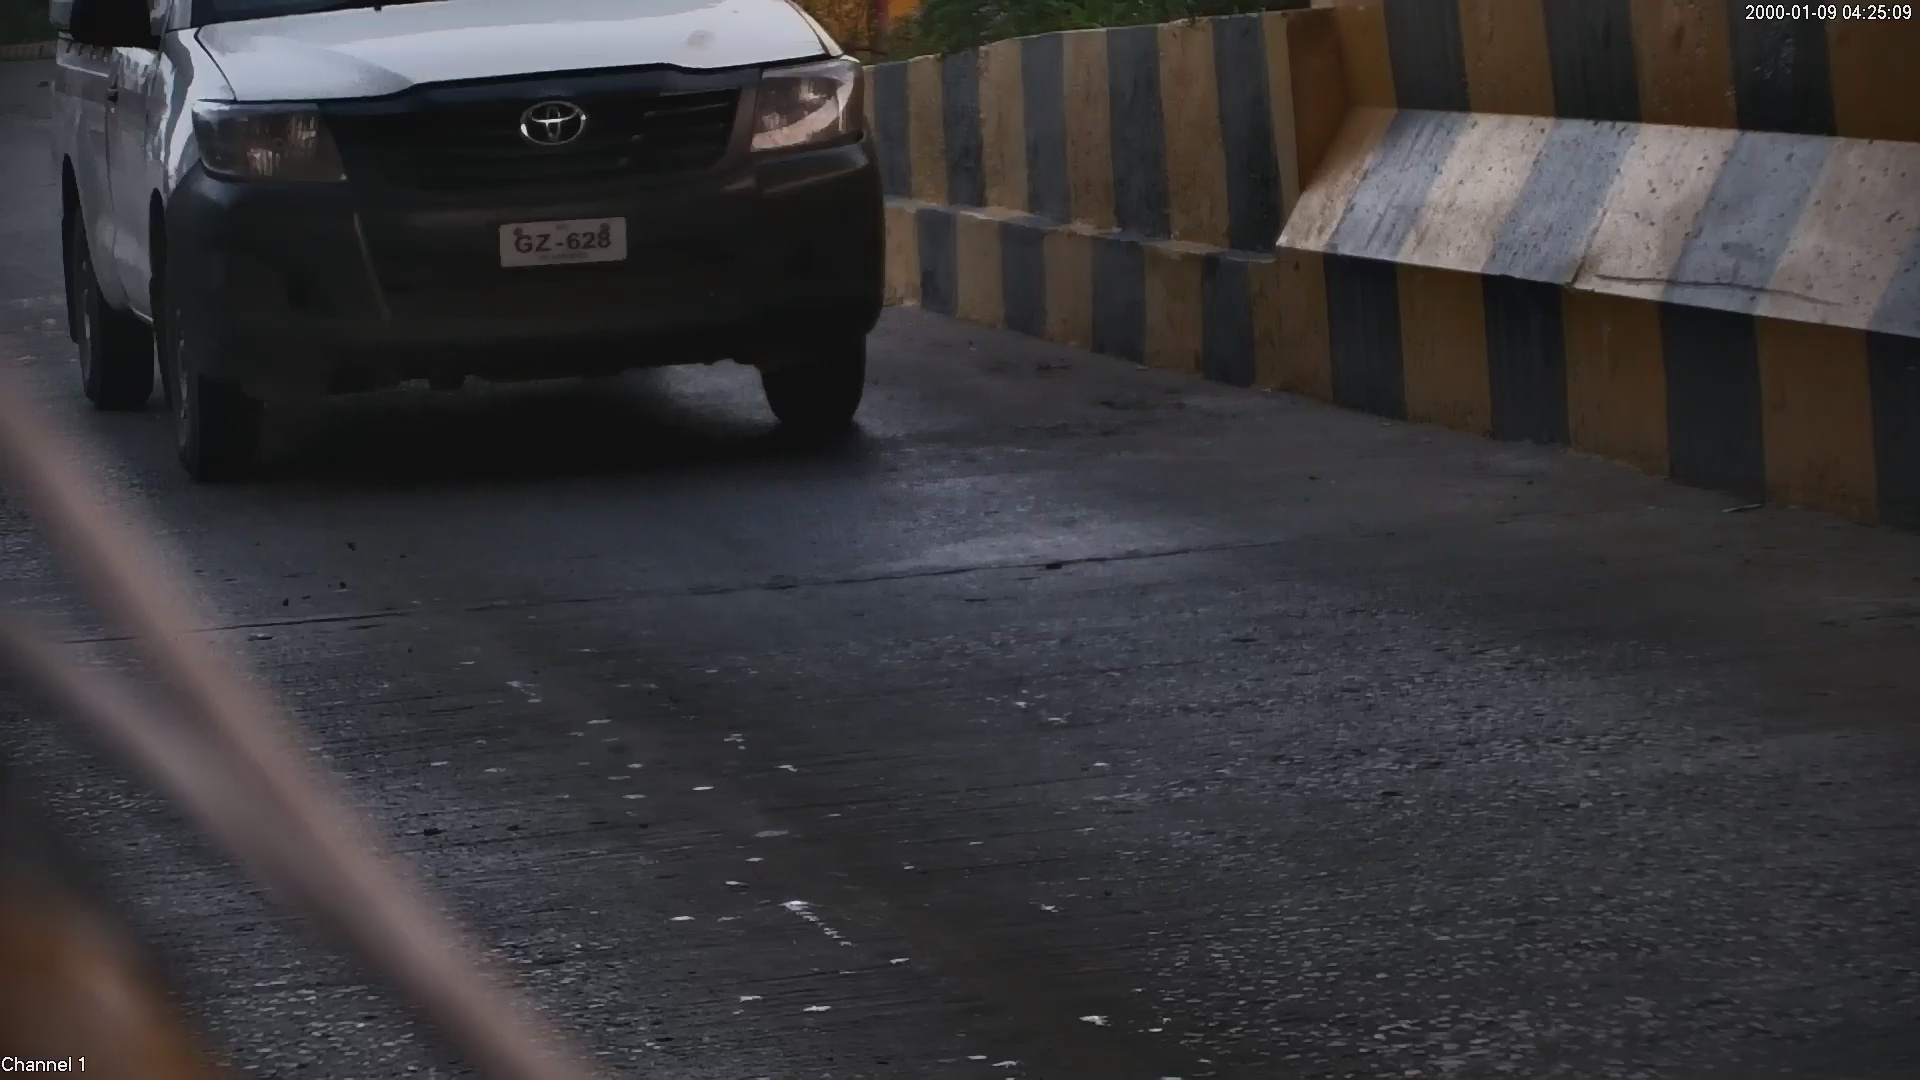Number_Plate: (484, 209, 643, 268)
